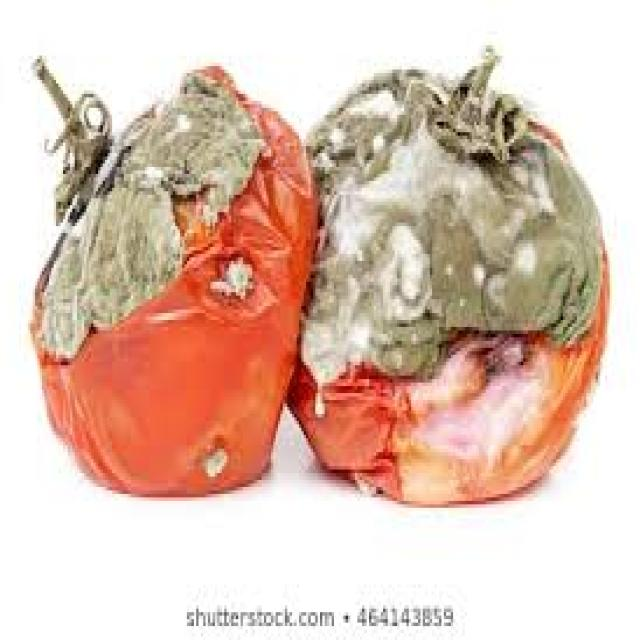biodegradable: (278, 42, 607, 504), (26, 45, 318, 494)
